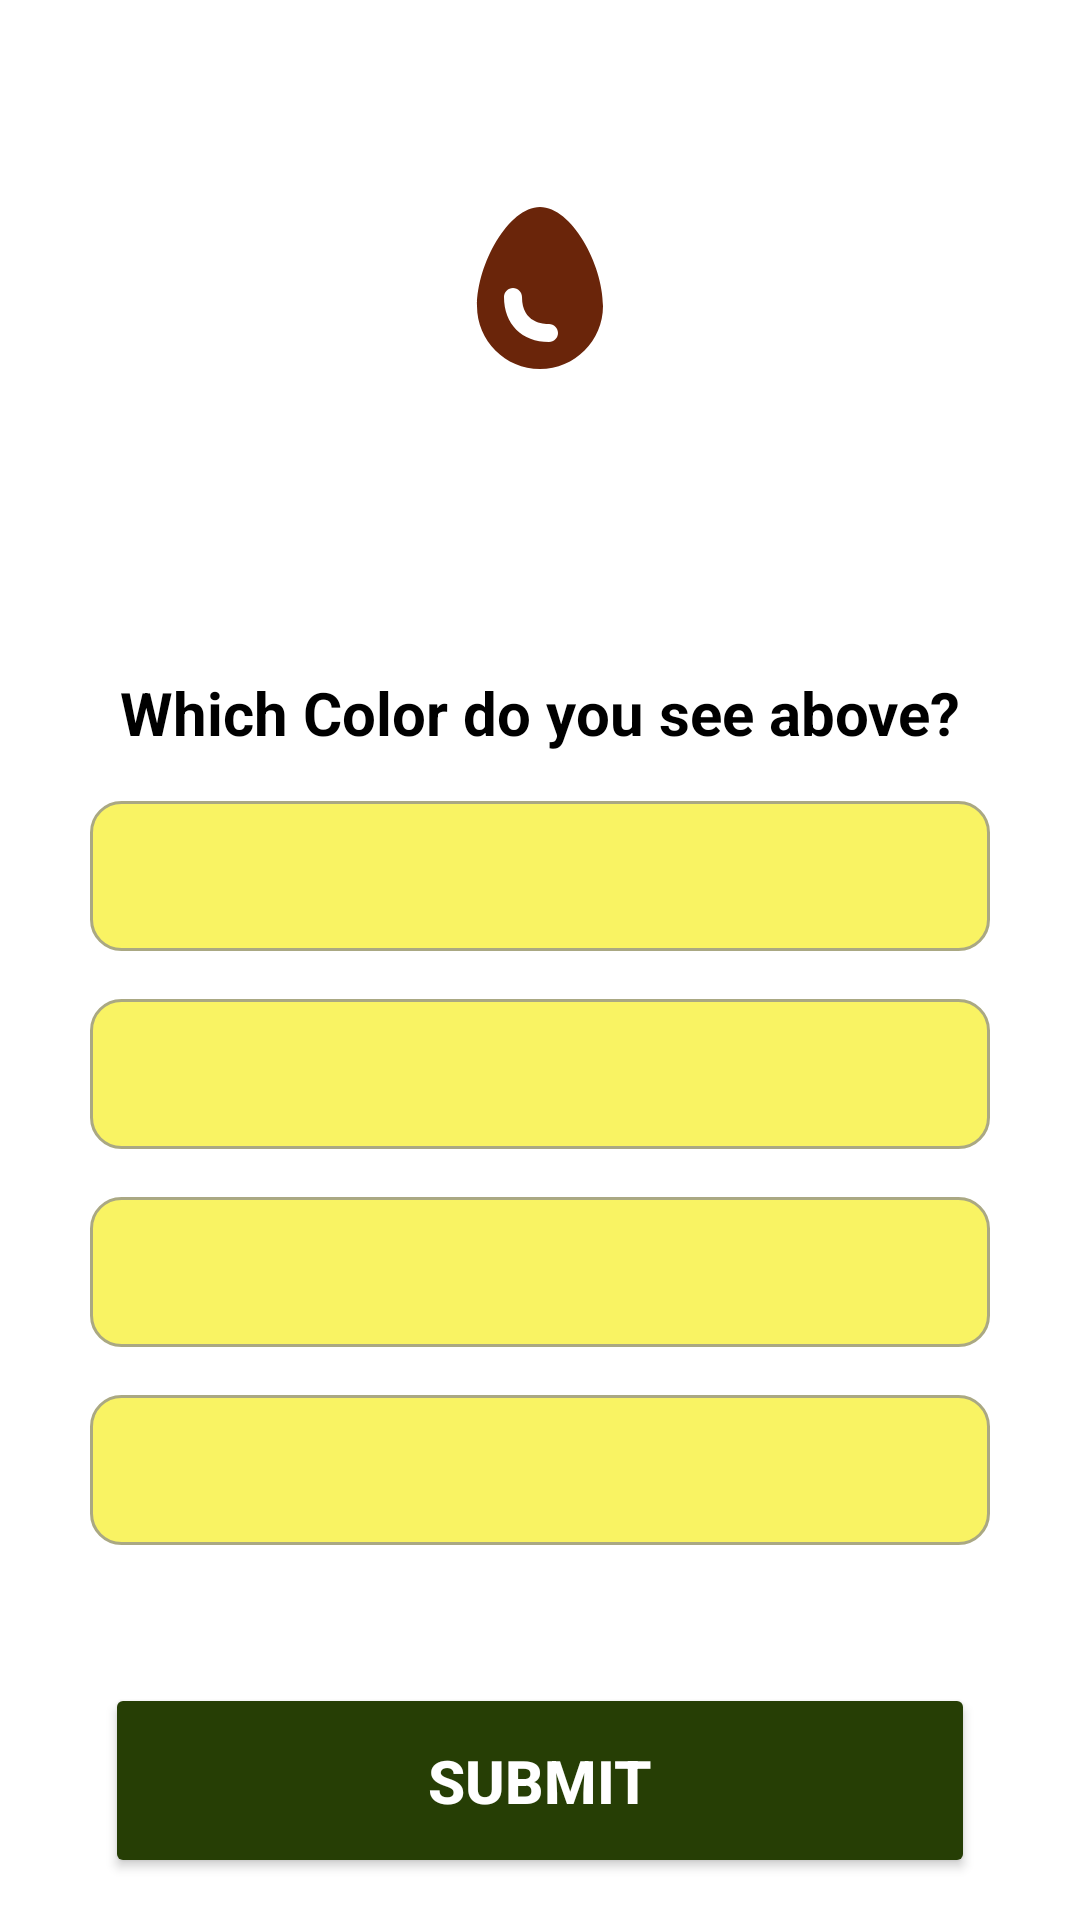

Where icons sit on this 1080 x 1920 app screen, as (x1, y1, x2, y2):
egg: (476, 207, 603, 369)
